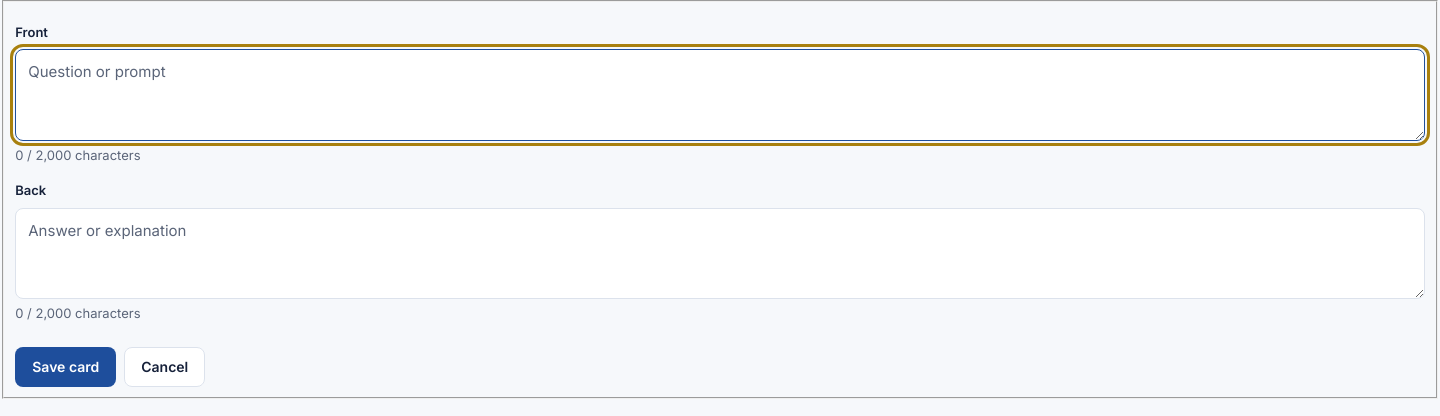
it: the character count follows the text
Type "hola" into the text box labelled "Front".
click(720, 95); type("hola")  # box left=15, top=49, right=1425, bottom=141
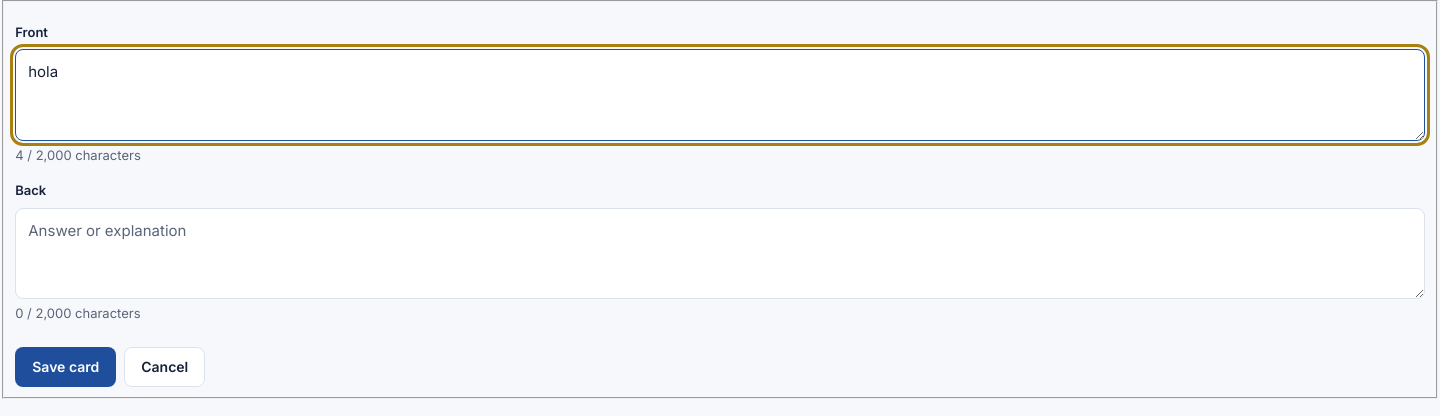
Expected: the text "4 / 2,000 characters" is shown, left=15, top=147, right=141, bottom=163
